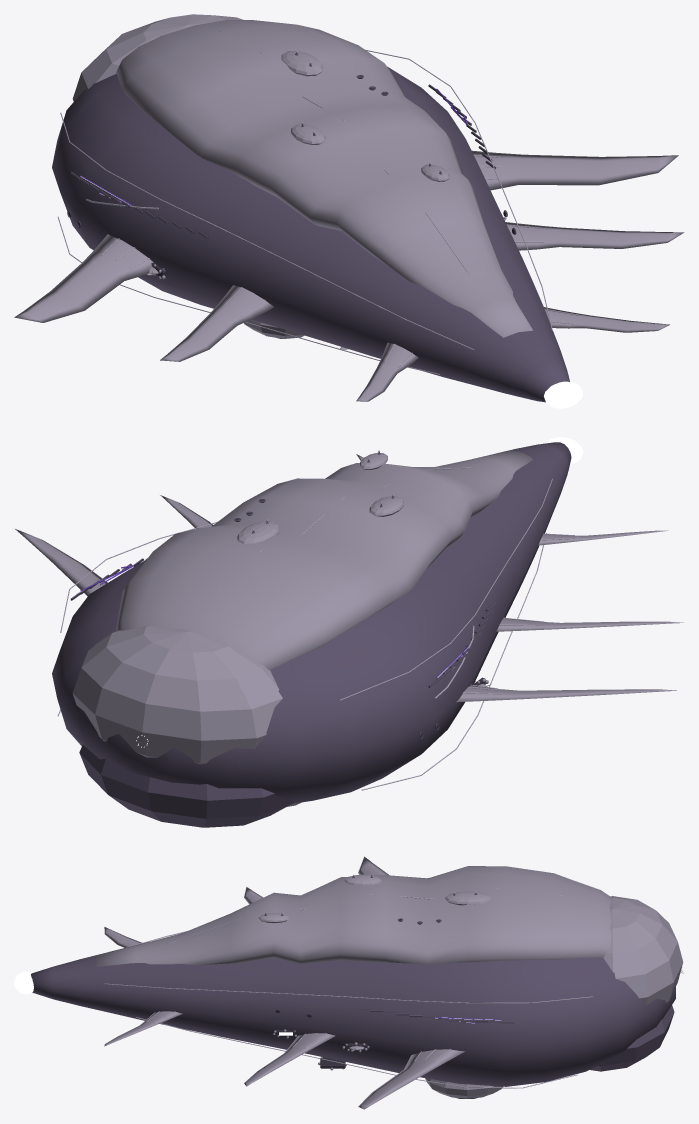
The picture shows the model from 3 angles, top to bottom: view 1: azimuth 30°, elevation 25°; view 2: azimuth 150°, elevation 25°; view 3: azimuth 270°, elevation 25°; orthographic projection. The views are drawn at different scales.
Parts seen in each view (by area): view 1: RIMWARD_HULL, RIMWARD_ENGINE_GLOW; view 2: RIMWARD_HULL; view 3: RIMWARD_HULL.
Boxes of the visible parts, x1,y1,x2,y2 form: RIMWARD_HULL: (14,14,684,402); RIMWARD_ENGINE_GLOW: (544,381,583,408); RIMWARD_HULL: (15,442,683,827); RIMWARD_HULL: (31,856,683,1109).
Size of the model in its own units: 76.02 by 29.45 by 85.13.
